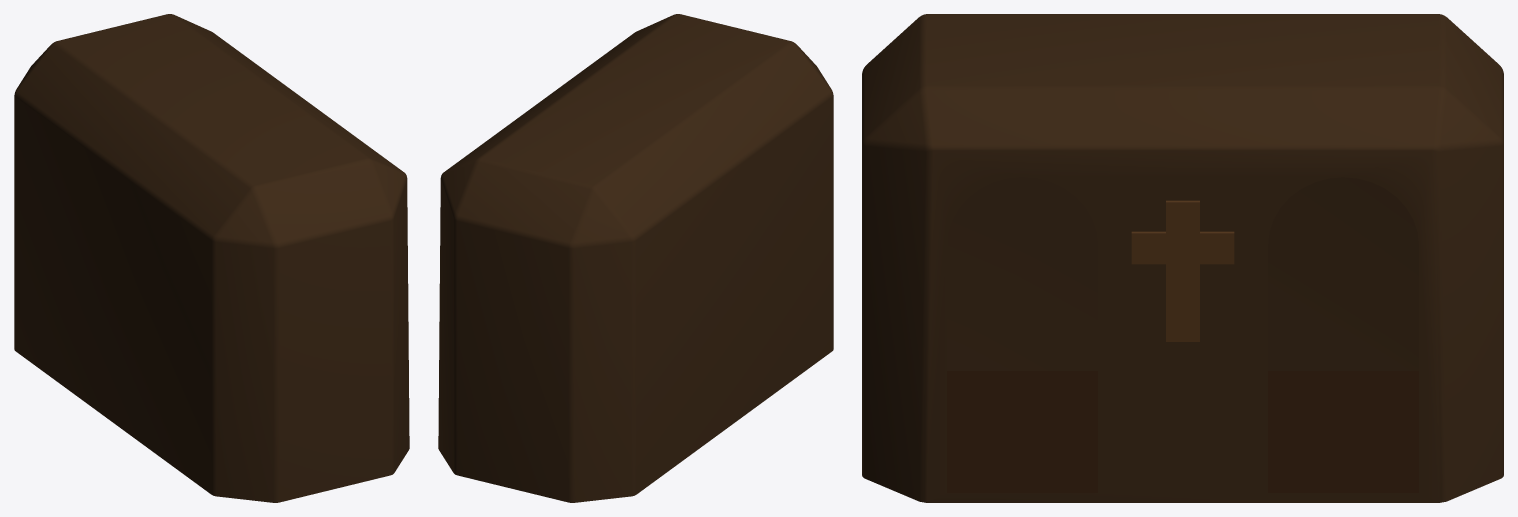
Rendered from Confessional.glb.
The picture shows the model from 3 angles, left to right: view 1: azimuth 30°, elevation 25°; view 2: azimuth 150°, elevation 25°; view 3: azimuth 270°, elevation 25°; orthographic projection. The views are drawn at different scales.
Visible parts, largest first — view 1: booth; view 2: booth; view 3: booth.
Part boxes in pixels (bbox=[...]): booth: bbox=[14, 14, 409, 502]; booth: bbox=[438, 14, 833, 502]; booth: bbox=[862, 14, 1503, 502].
Size of the model in its own units: 7.81 by 11.19 by 16.68.
